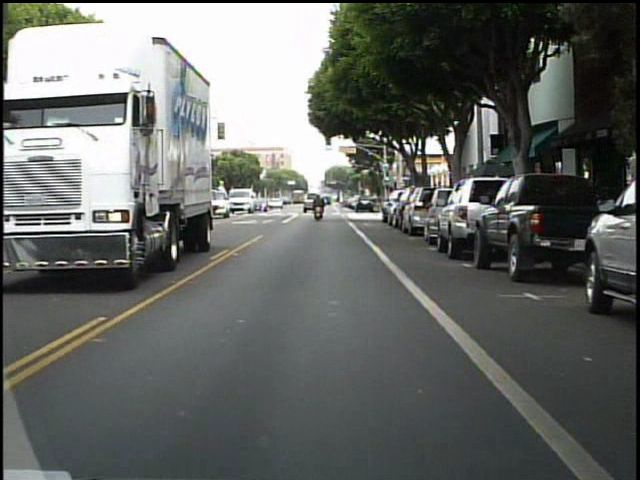person: (312, 192, 326, 222)
